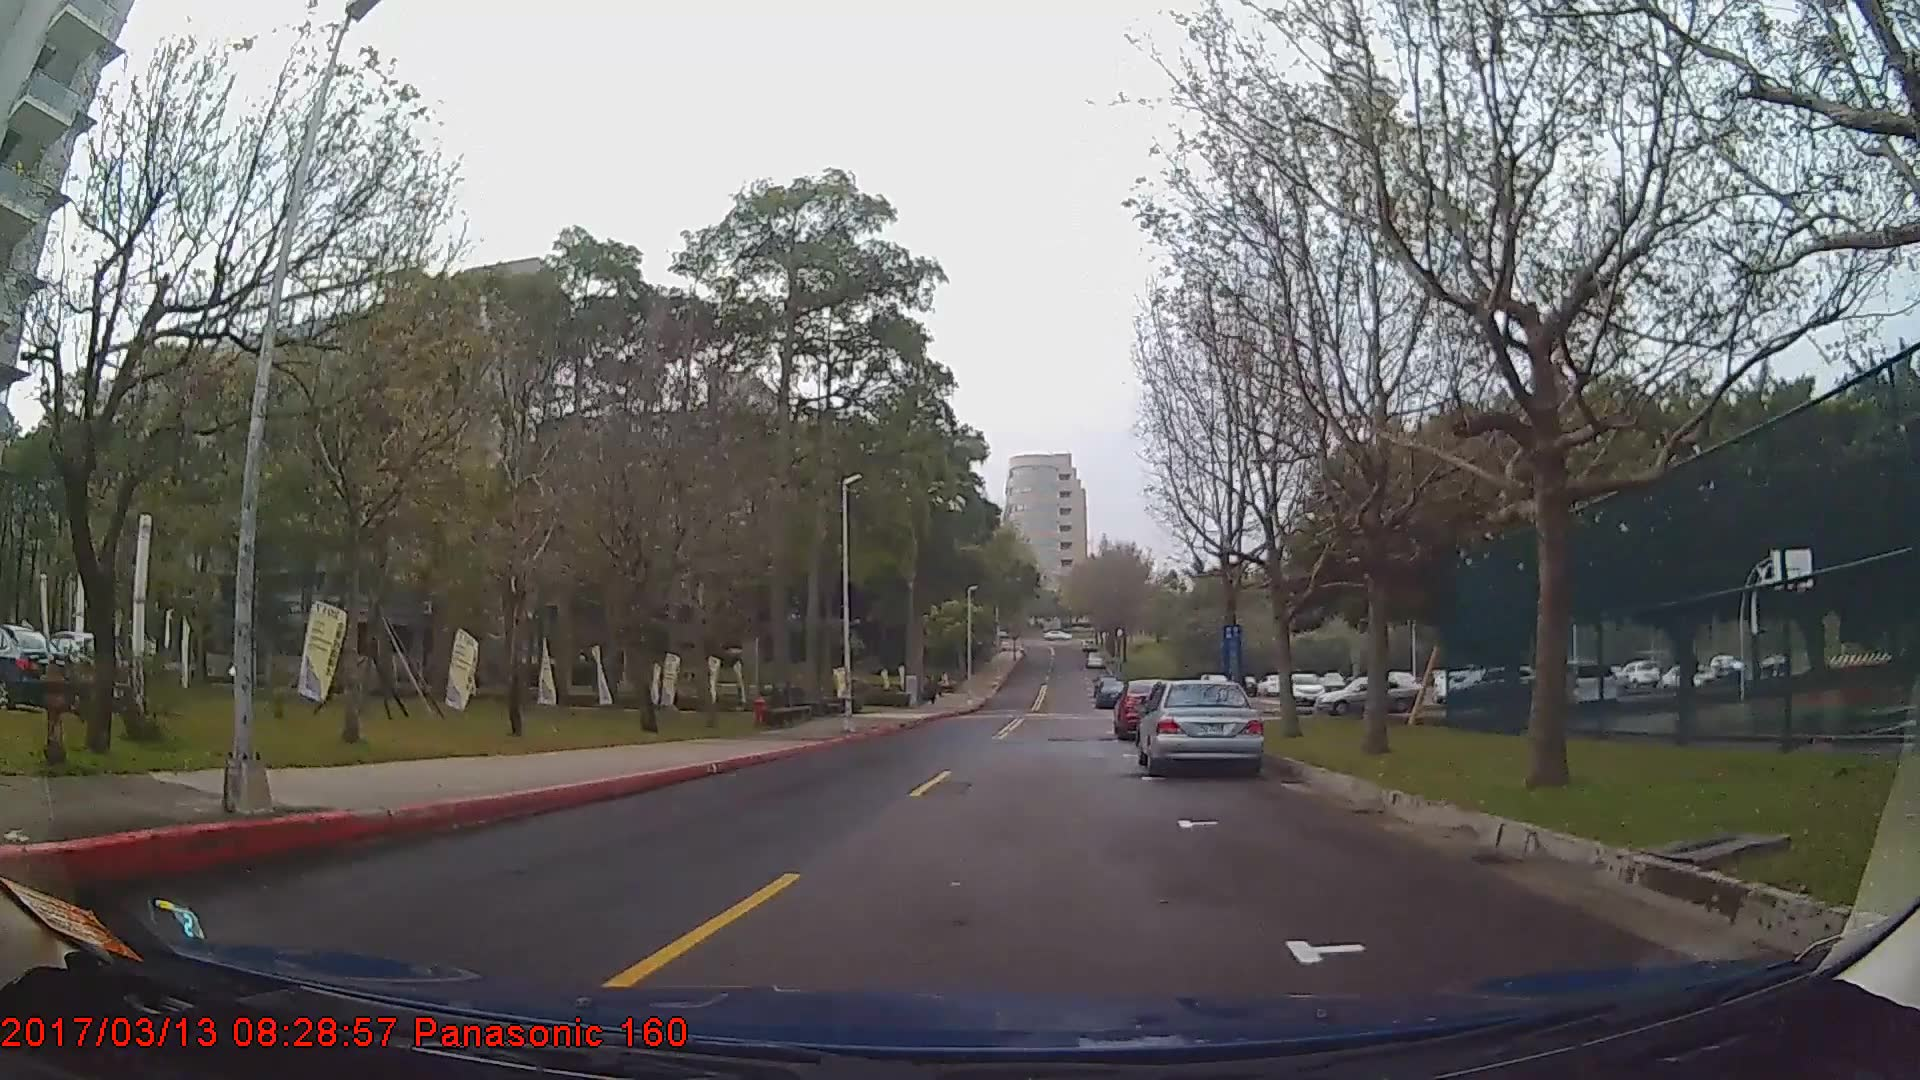vehicle: (1135, 676, 1263, 779), (1313, 670, 1424, 716), (1112, 676, 1179, 742), (1093, 676, 1129, 705)
